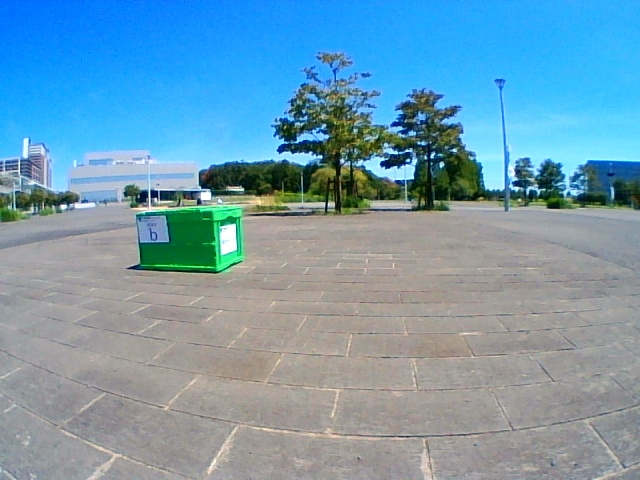green_box: (136, 207, 242, 272)
tag_b: (141, 216, 165, 242)
